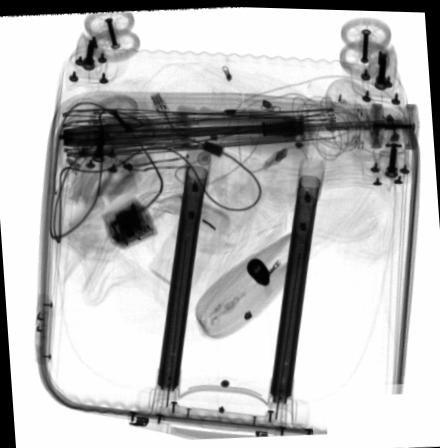Bullet: (245, 254, 269, 283)
